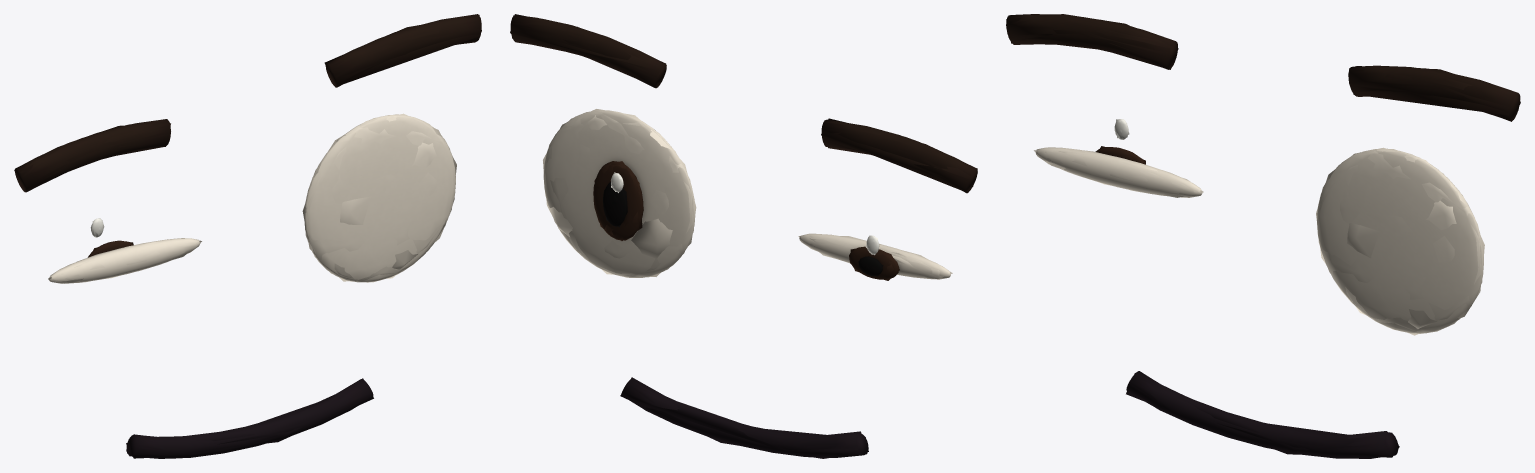
Rendered from wink.glb.
The picture shows the model from 3 angles, left to right: view 1: azimuth 30°, elevation 25°; view 2: azimuth 150°, elevation 25°; view 3: azimuth 330°, elevation 25°; orthographic projection. The views are drawn at different scales.
Visible parts, largest first — view 1: near, mid, far; view 2: near, mid, far; view 3: near, mid, far.
Boxes of the visible parts, x1,y1,x2,y2 form: near: [15, 15, 481, 458]; mid: [15, 14, 481, 458]; far: [14, 15, 480, 458]; near: [510, 16, 977, 457]; mid: [510, 15, 976, 457]; far: [510, 14, 977, 458]; near: [1006, 14, 1520, 458]; mid: [1006, 14, 1520, 458]; far: [1006, 14, 1520, 457].
Bounding box in the file's own units: 0.6679 × 0.526 × 0.0548.
6 materials, 6 textured.
